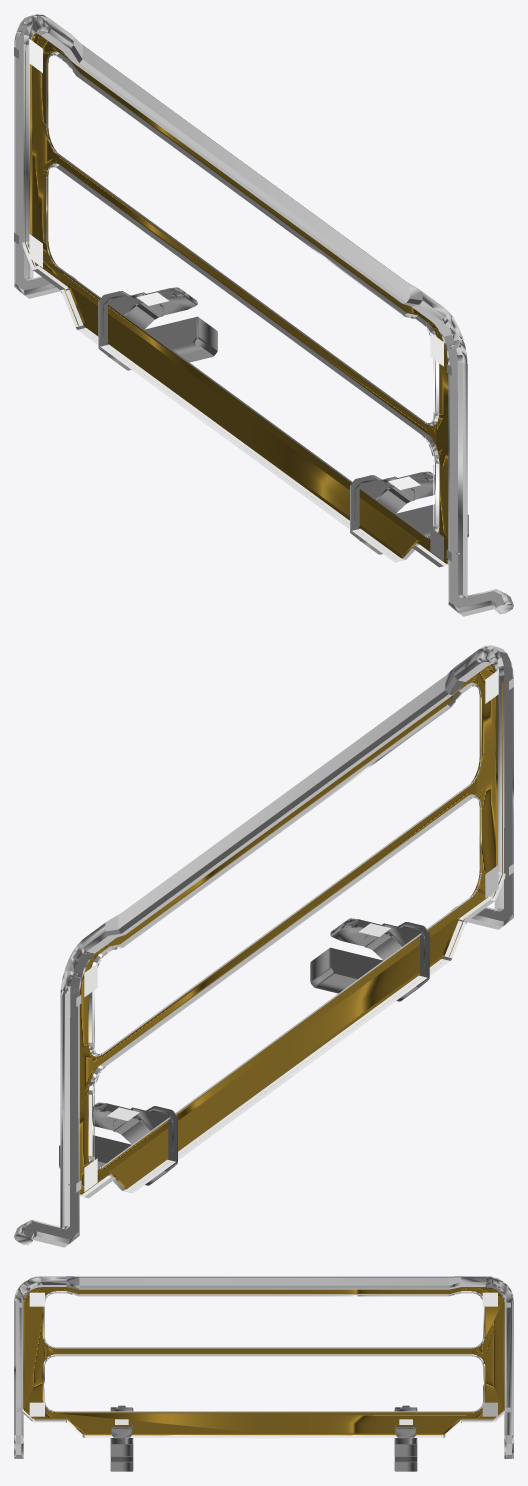
The model's file is ext_landingpad_railing_straight_04x01x02_a.glb.
The picture shows the model from 3 angles, top to bottom: view 1: azimuth 30°, elevation 25°; view 2: azimuth 150°, elevation 25°; view 3: azimuth 270°, elevation 25°; orthographic projection. The views are drawn at different scales.
Size of the model in its own units: 0.4919 by 1.38 by 3.67.
